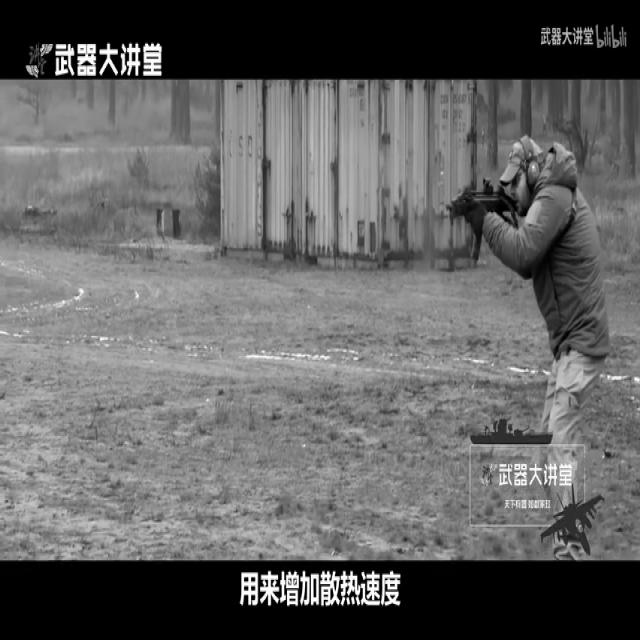Rifle: (381, 69, 574, 346)
